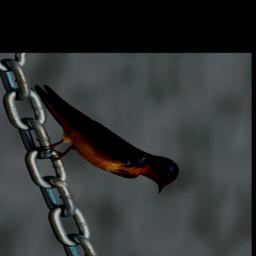Swallow: (13, 83, 192, 195)
